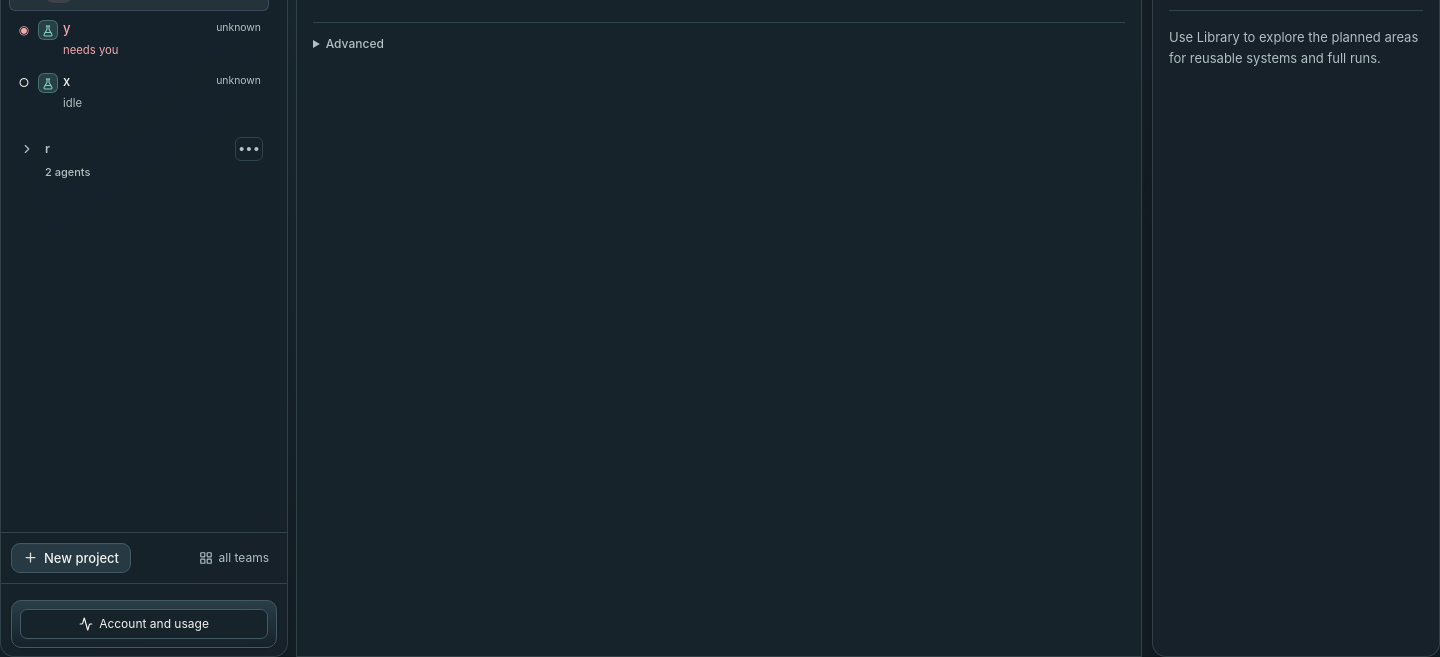
it: projects in the sidebar › falls back to the most active project when the remembered one is gone, and survives storage errors
This screenshot has width=1440, height=657.
Step 1. Click the link with aria-label "Switch to r" → (68, 172), box 45,141 -> 90,179
(page scrolled)
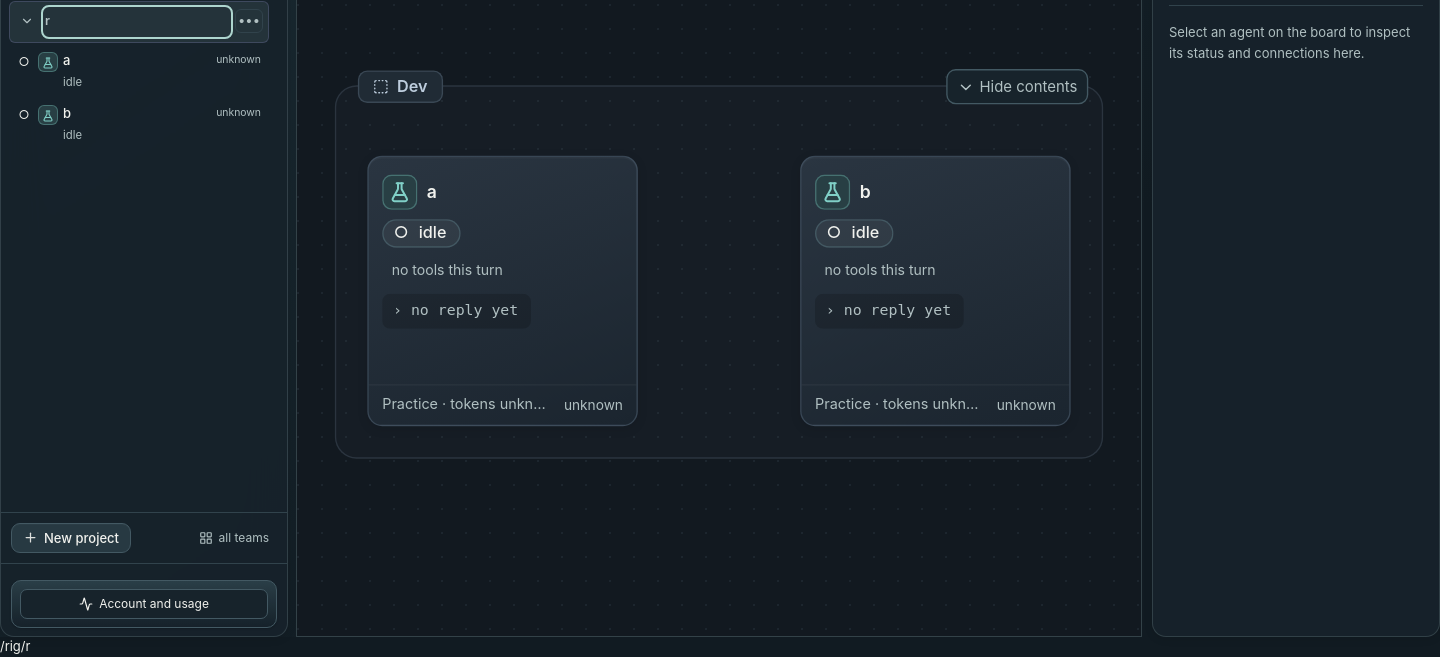
Expected: the text with test id "where" reads "/rig/r", 0,638 -> 30,654
